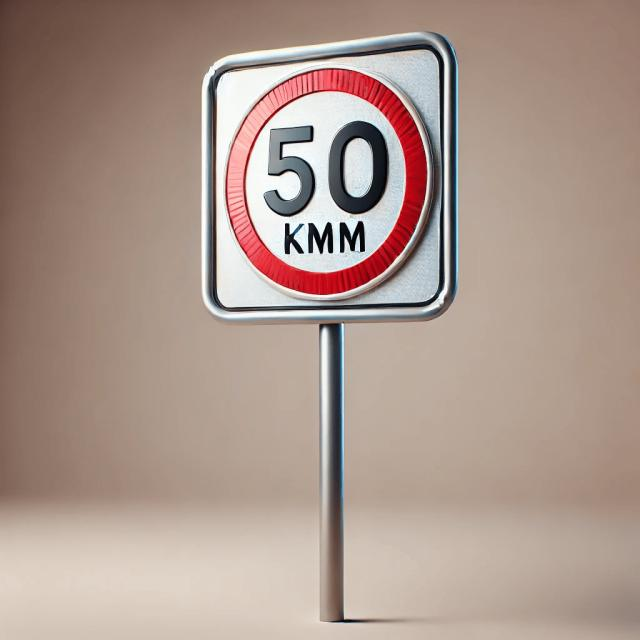Speed limit 50: (199, 31, 462, 328)
